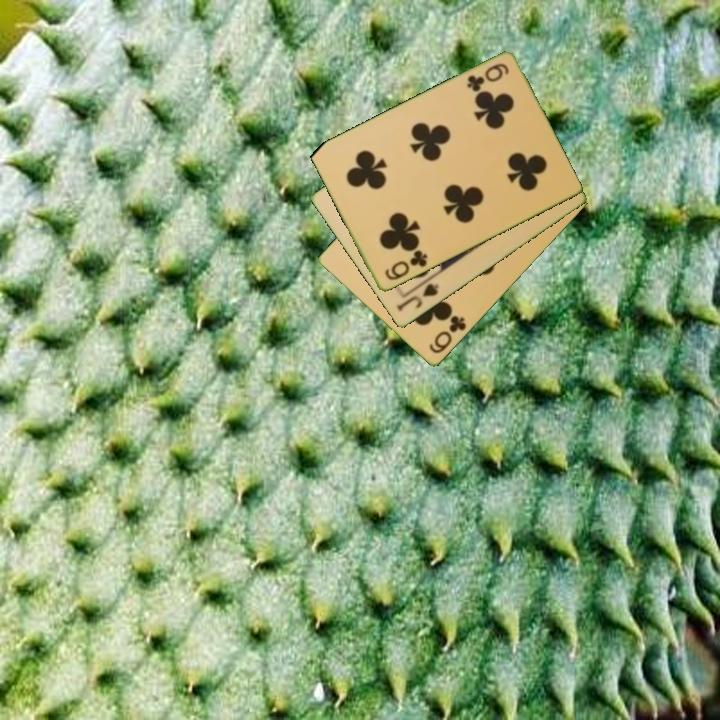6c: (425, 312, 469, 357), (381, 247, 430, 284), (464, 60, 512, 95)
Js: (393, 280, 442, 315)
